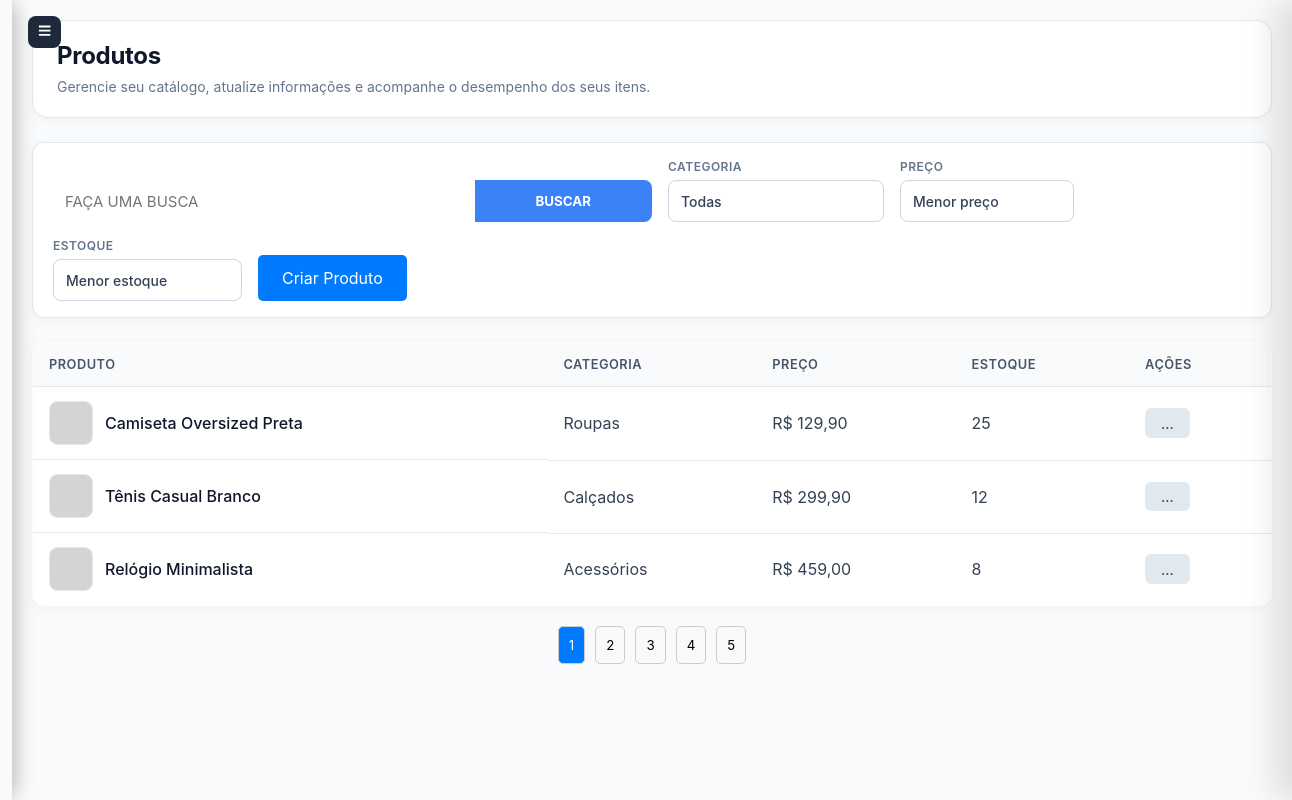
it: store/product filters › should update the URL params when selecting a product order option and a stock option
Select "Menor estoque" in the dropdown named "Ordenar por estoque": x=148, y=280 [53, 259, 242, 301]
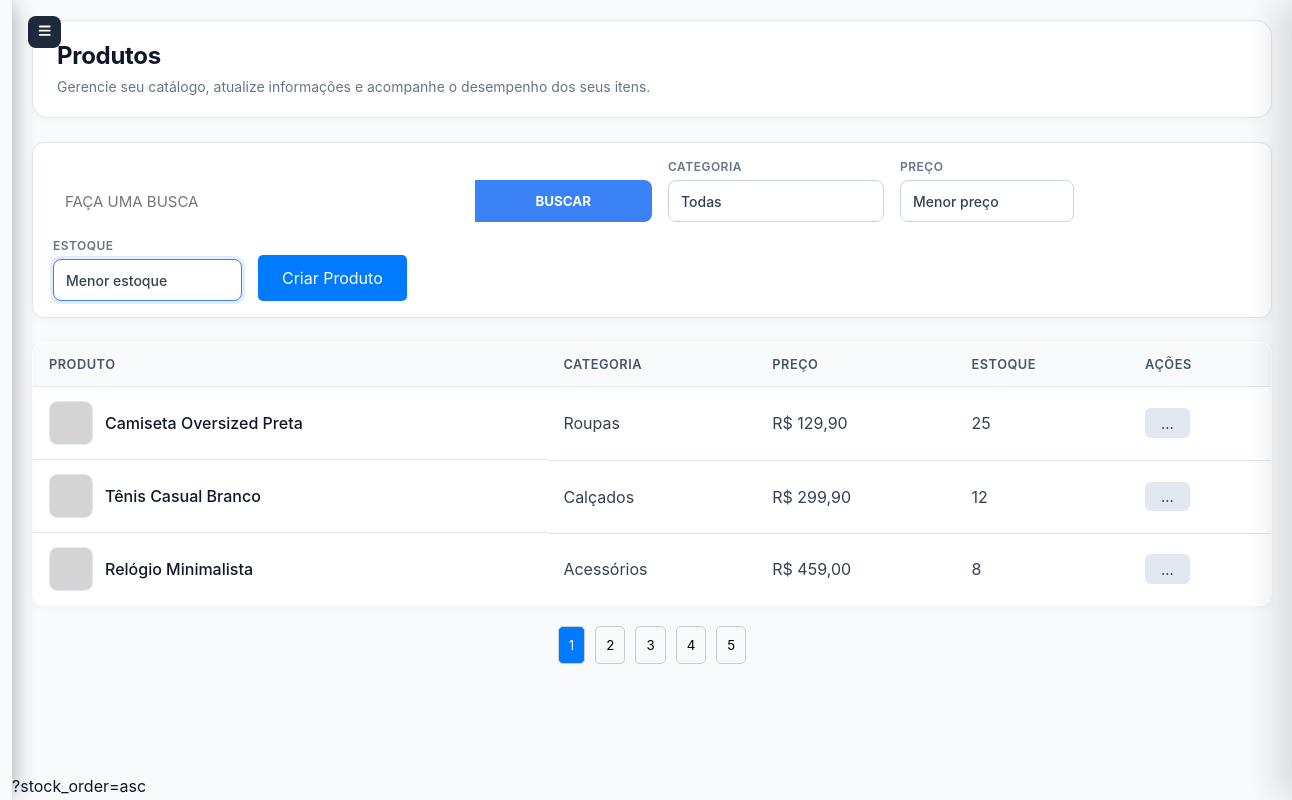
Select "Maior preço" in the dropdown named "Ordenar por preço": x=987, y=201 [900, 180, 1074, 222]
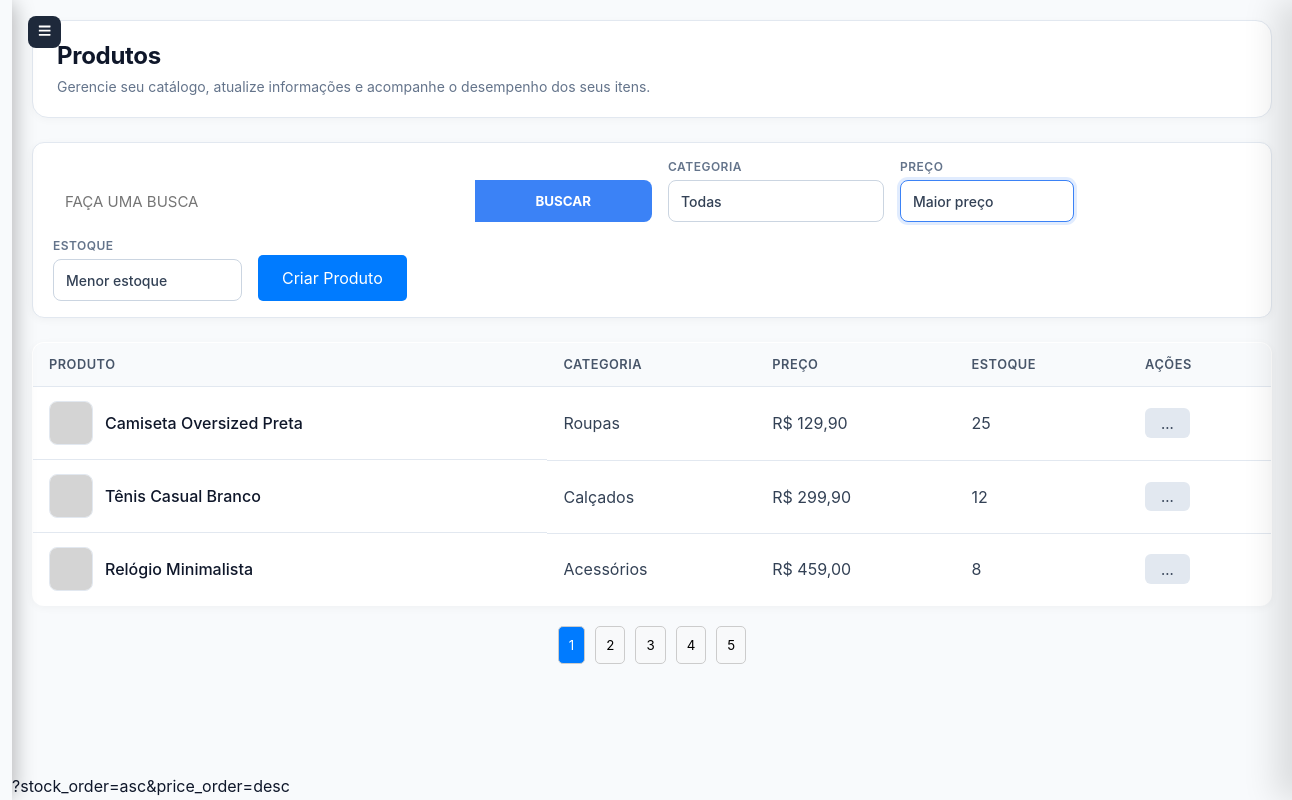
Expected: the text with test id "location" reads "?stock_order=asc&price_order=desc", [12, 776, 290, 796]
